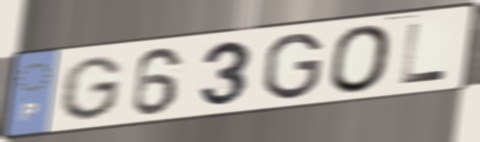3: (196, 38, 258, 109)
6: (129, 44, 186, 119)
G: (55, 54, 125, 122), (261, 30, 325, 102)
L: (398, 20, 450, 87)
O: (328, 22, 395, 95)
